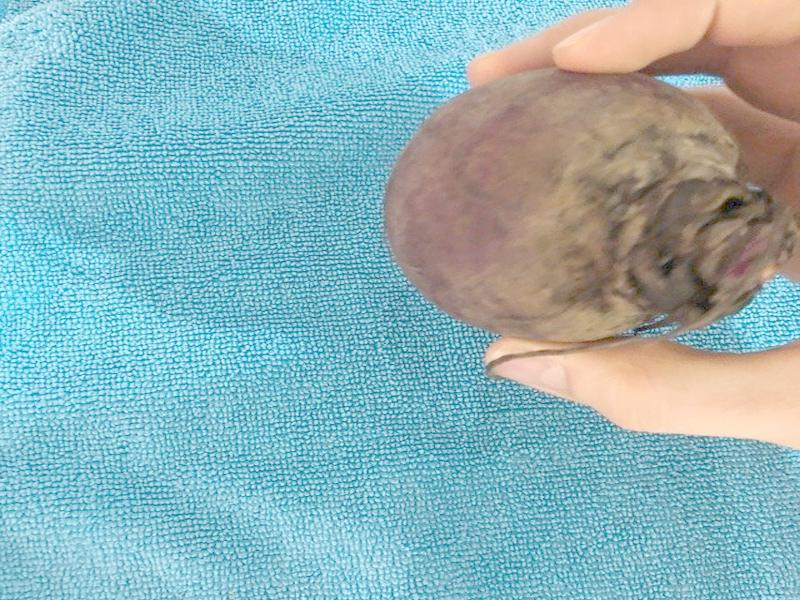Beet: (384, 68, 791, 377)
